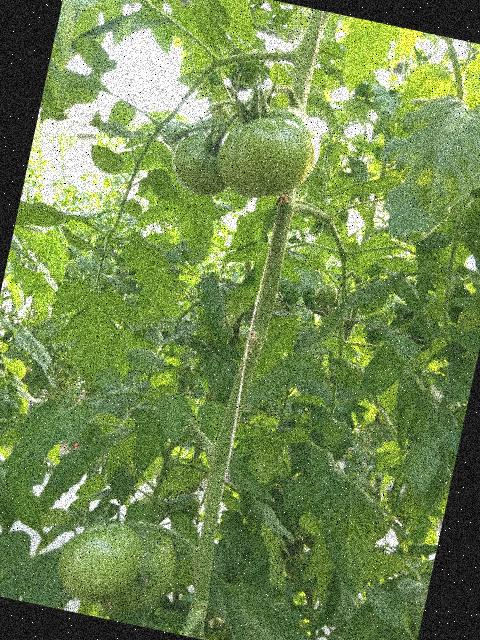b_green: (209, 93, 328, 211), (90, 513, 184, 624), (50, 510, 149, 610), (167, 129, 239, 200), (312, 280, 340, 308)
